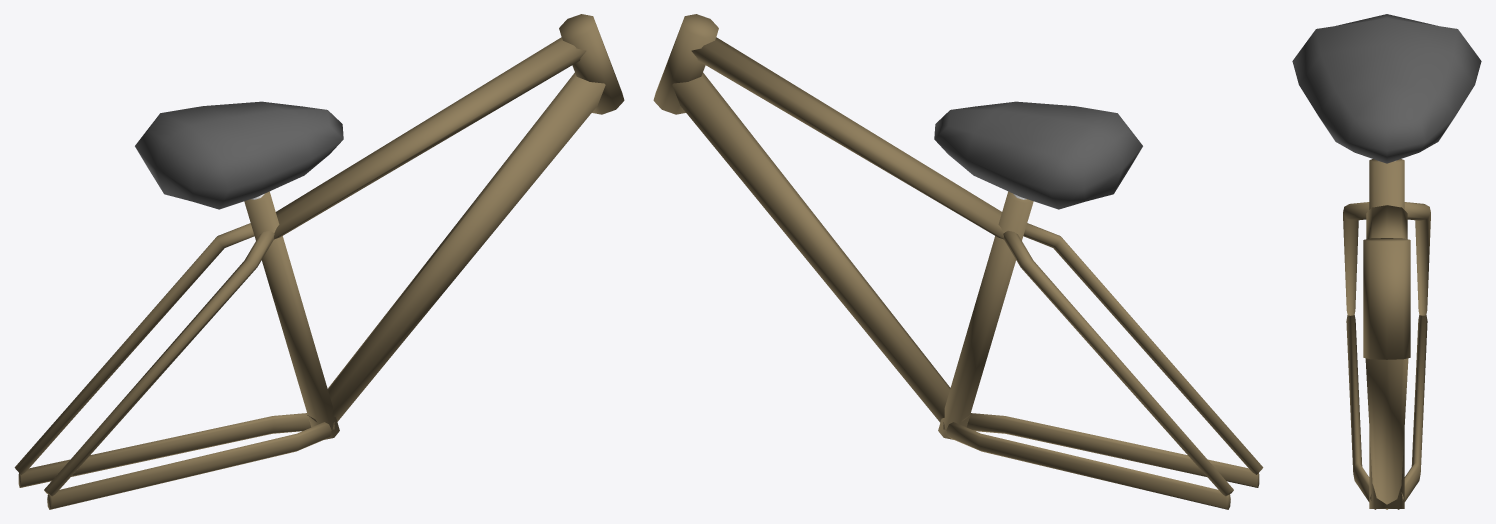
The model's file is frame.gltf.
The picture shows the model from 3 angles, left to right: view 1: azimuth 30°, elevation 25°; view 2: azimuth 150°, elevation 25°; view 3: azimuth 270°, elevation 25°; orthographic projection. The views are drawn at different scales.
Parts seen in each view (by area): view 1: SeatCushion, DownTube, TopTube, SeatTube, ChainStayRight, ChainStayLeft, SeatStayRight, SeatStayLeft, HeadTube; view 2: SeatCushion, DownTube, TopTube, SeatTube, ChainStayLeft, ChainStayRight, SeatStayLeft, SeatStayRight, HeadTube; view 3: SeatCushion, HeadTube, DownTube, SeatTube, ChainStayLeft, ChainStayRight, SeatStayLeft, SeatStayRight, TopTube.
Part boxes in pixels (x1,y1,x2,y2): SeatCushion: (135, 101, 343, 209); DownTube: (307, 72, 605, 421); TopTube: (274, 37, 586, 239); SeatTube: (244, 191, 339, 439); ChainStayRight: (47, 422, 334, 509); ChainStayLeft: (18, 413, 311, 487); SeatStayRight: (44, 230, 274, 496); SeatStayLeft: (14, 223, 254, 474); HeadTube: (559, 14, 624, 114); SeatCushion: (934, 101, 1142, 209); DownTube: (672, 72, 971, 422); TopTube: (691, 37, 1003, 239); SeatTube: (938, 191, 1033, 439); ChainStayLeft: (943, 422, 1230, 509); ChainStayRight: (966, 413, 1259, 487); SeatStayLeft: (1003, 230, 1233, 496); SeatStayRight: (1023, 223, 1263, 474); HeadTube: (653, 14, 718, 114); SeatCushion: (1292, 14, 1481, 163); HeadTube: (1363, 238, 1410, 359); DownTube: (1365, 358, 1408, 509); SeatTube: (1369, 159, 1404, 509); ChainStayLeft: (1398, 315, 1427, 509); ChainStayRight: (1346, 315, 1375, 509); SeatStayLeft: (1404, 202, 1430, 315); SeatStayRight: (1343, 202, 1369, 315); TopTube: (1366, 205, 1407, 239).
Bounding box in the file's own units: 3.49 × 1.98 × 0.8.
